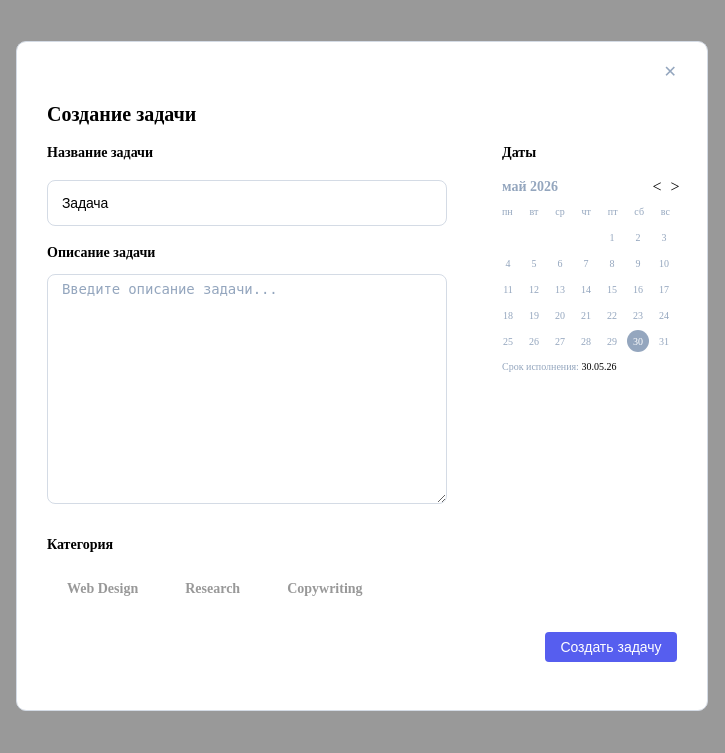
Test: PopNewCard — модальное окно создания задачи › показывает ошибку при отправке пустого описания
The image size is (725, 753).
Click the button "Создать задачу" at (611, 647), box [545,632,677,662]
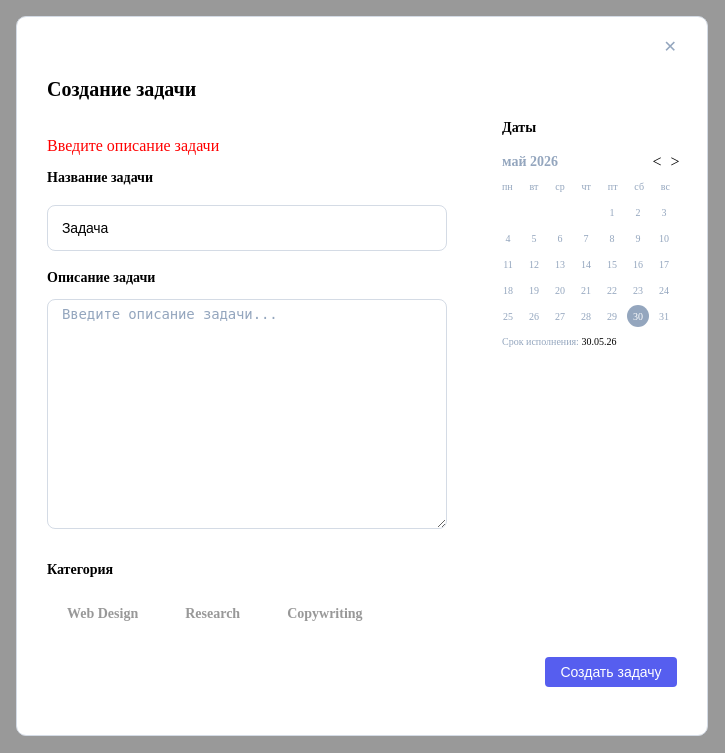
Expected: the text "Введите описание задачи" is shown, [47,137,219,154]
